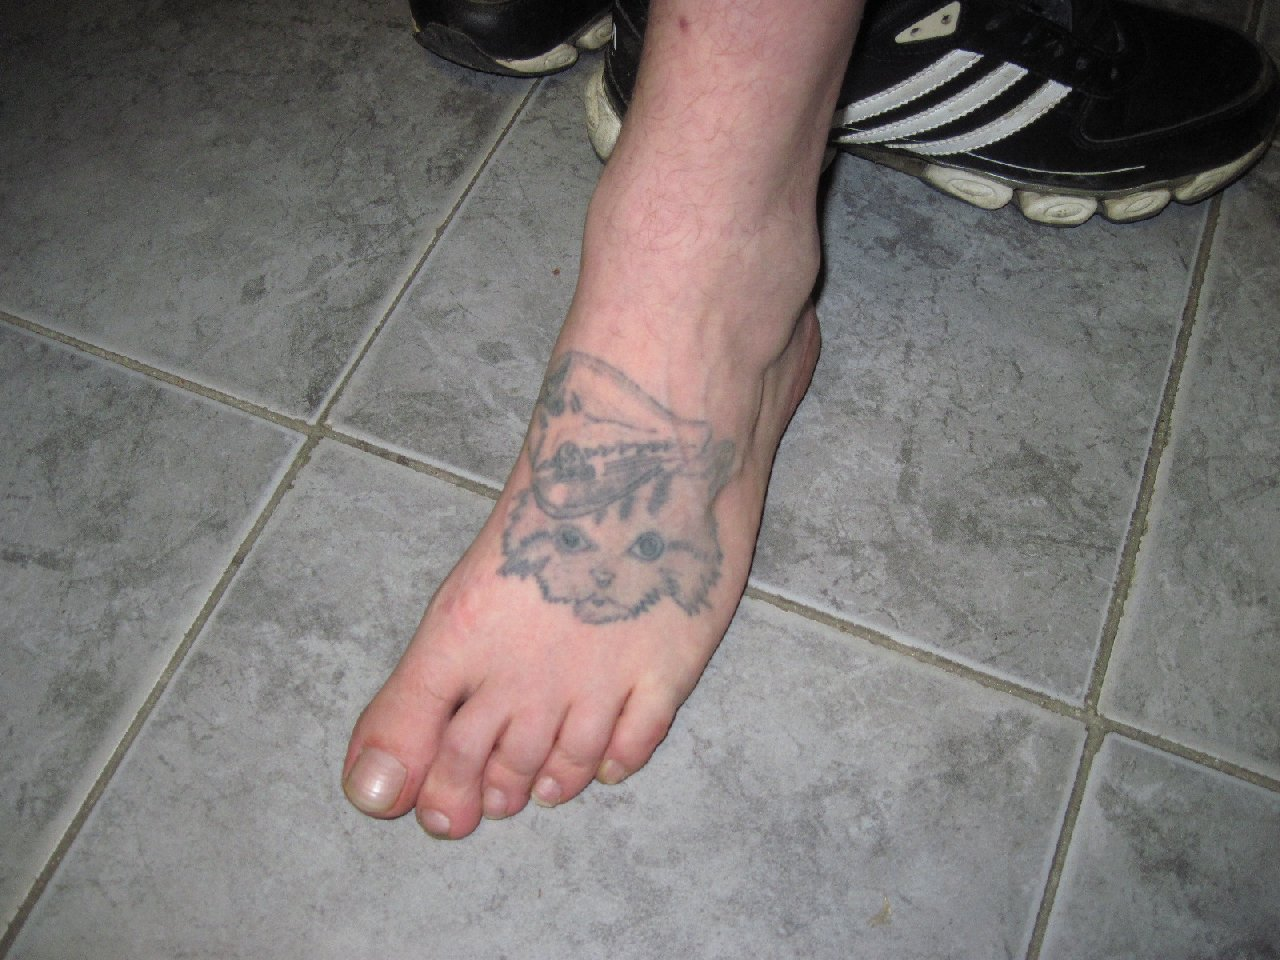tatu8_kot: (499, 329, 749, 632)
